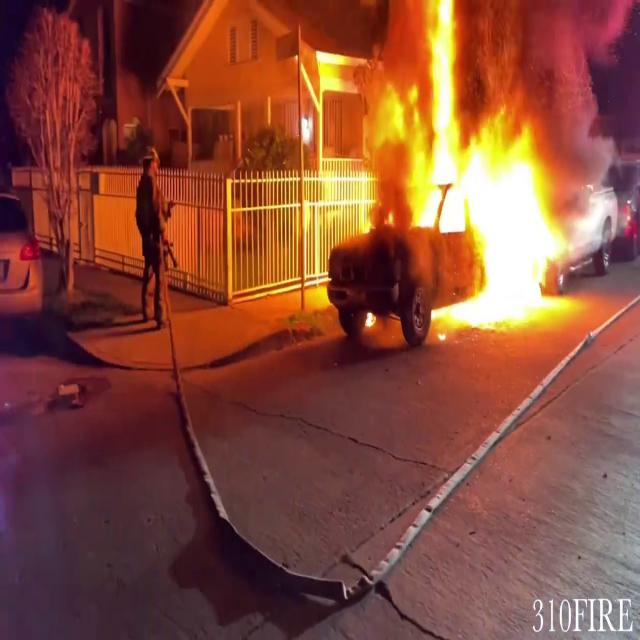Fire: (385, 1, 573, 332)
